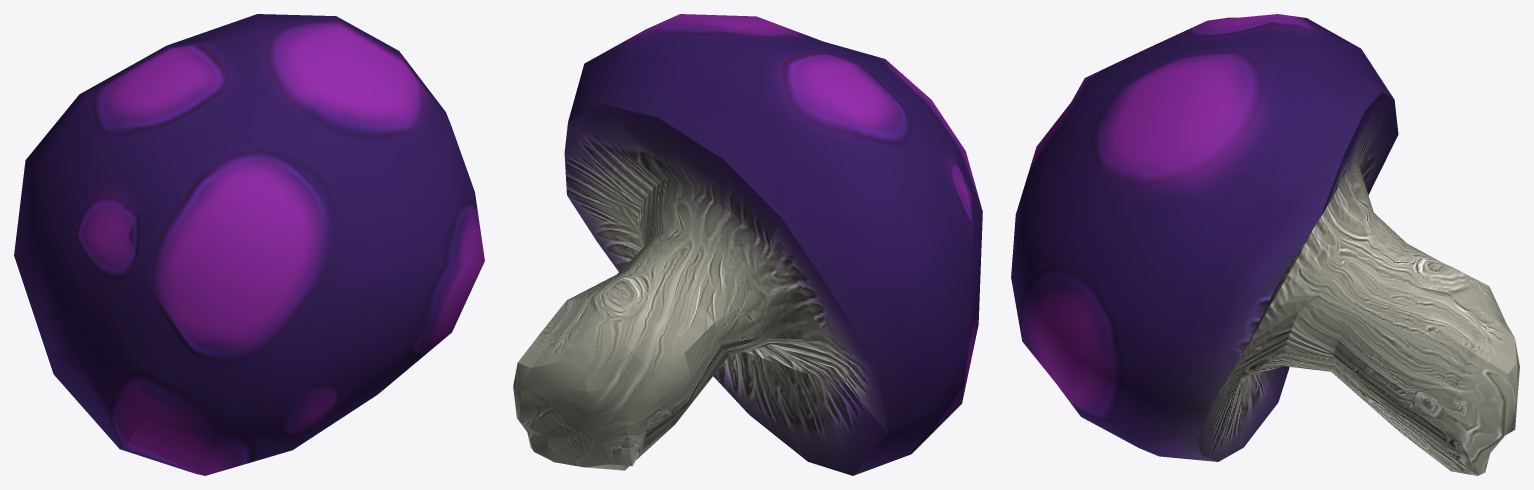
File: mushroom.dae
3 renders of one model, left to right at view 1: azimuth 30°, elevation 25°; view 2: azimuth 150°, elevation 25°; view 3: azimuth 270°, elevation 25°, orthographic. The views are drawn at different scales.
Parts seen in each view (by area): view 1: Mesh_ZBrushPolyMesh3D; view 2: Mesh_ZBrushPolyMesh3D; view 3: Mesh_ZBrushPolyMesh3D.
Part boxes in pixels (x1=…): Mesh_ZBrushPolyMesh3D: x1=14, y1=14, x2=484, y2=475; Mesh_ZBrushPolyMesh3D: x1=513, y1=14, x2=982, y2=475; Mesh_ZBrushPolyMesh3D: x1=1011, y1=14, x2=1519, y2=475.
Size of the model in its own units: 2.11 by 2.08 by 2.18.
1 material, 1 textured.
